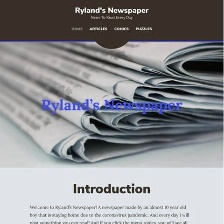news_paper: (0, 40, 224, 166)
